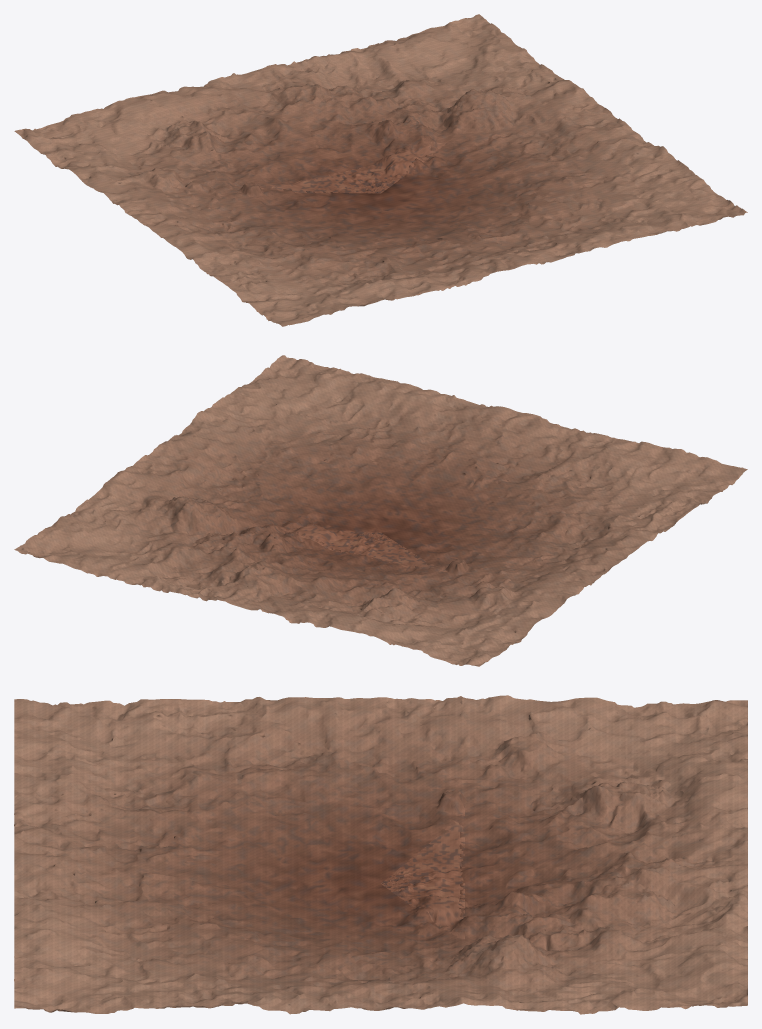
The model's file is mars-environment.glb.
3 renders of one model, top to bottom at view 1: azimuth 30°, elevation 25°; view 2: azimuth 150°, elevation 25°; view 3: azimuth 270°, elevation 25°, orthographic. The views are drawn at different scales.
Parts seen in each view (by area): view 1: Mars_Mountains_Far, Mars_Terrain_Near; view 2: Mars_Mountains_Far, Mars_Terrain_Near; view 3: Mars_Mountains_Far, Mars_Terrain_Near.
Part boxes in pixels (x1,y1,x2,y2): Mars_Mountains_Far: (14,14,747,326); Mars_Terrain_Near: (260,141,446,193); Mars_Mountains_Far: (14,355,747,666); Mars_Terrain_Near: (255,524,447,571); Mars_Mountains_Far: (14,695,747,1014); Mars_Terrain_Near: (381,810,464,939).
Size of what is drawn, in the model's own units: 6997 by 502 by 6998.
6 materials, 2 textured.
